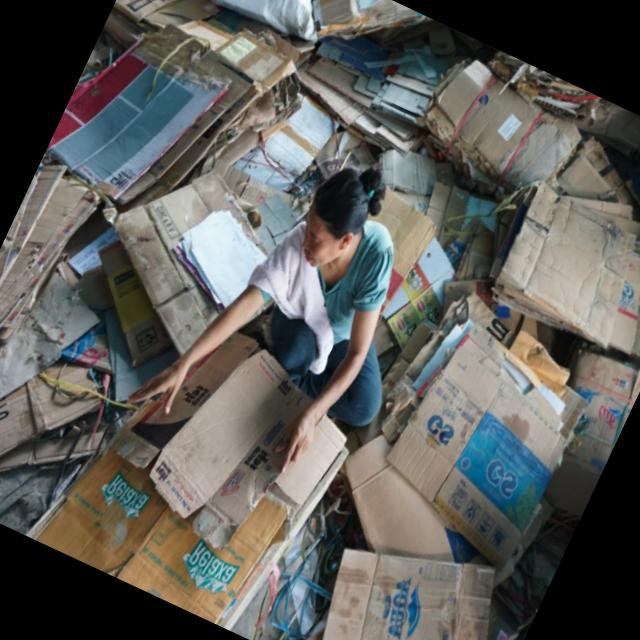Kardus: (31, 298, 366, 640), (353, 150, 640, 545), (0, 146, 178, 535), (39, 0, 298, 248), (291, 499, 547, 640)
